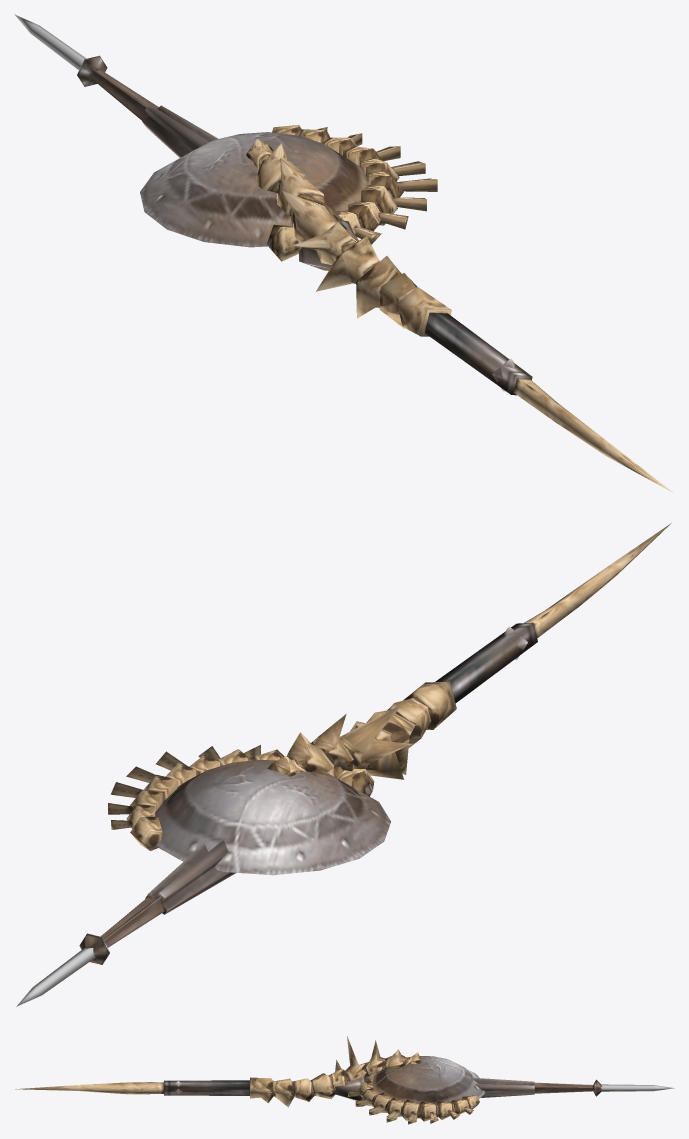
File: we002_amh.OBJ
3 renders of one model, top to bottom at view 1: azimuth 30°, elevation 25°; view 2: azimuth 150°, elevation 25°; view 3: azimuth 270°, elevation 25°, orthographic. The views are drawn at different scales.
Parts seen in each view (by area): view 1: mesh_1, mesh_0; view 2: mesh_1, mesh_0; view 3: mesh_0, mesh_1.
Boxes of the visible parts, bbox=[...] form: mesh_1: bbox=[140, 125, 437, 261]; mesh_0: bbox=[14, 14, 673, 492]; mesh_1: bbox=[108, 745, 390, 875]; mesh_0: bbox=[16, 523, 671, 1006]; mesh_0: bbox=[15, 1036, 674, 1107]; mesh_1: bbox=[348, 1056, 484, 1124].
Bounding box in the file's own units: 86.9 × 38.23 × 389.
